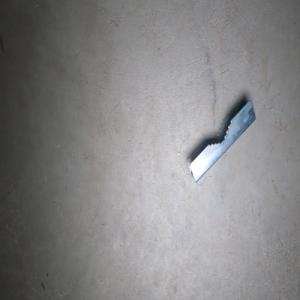ClampPart: (185, 99, 256, 183)
